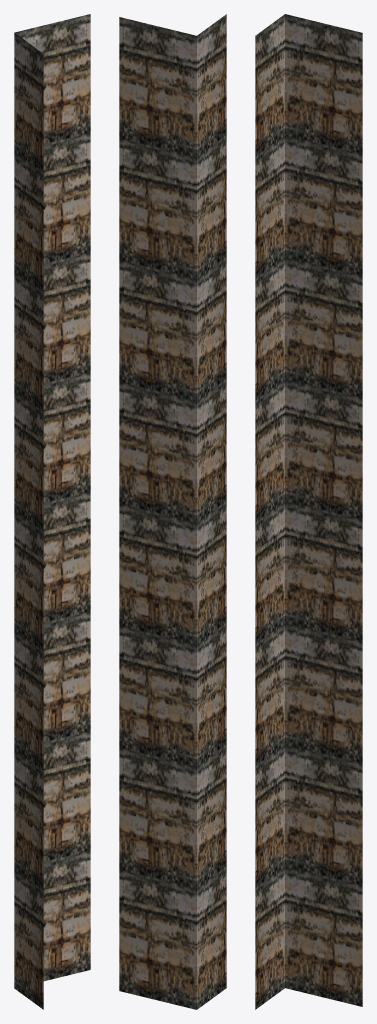
Rendered from M11_FakeCorner01.glb.
3 renders of one model, left to right at view 1: azimuth 30°, elevation 25°; view 2: azimuth 150°, elevation 25°; view 3: azimuth 330°, elevation 25°, orthographic.
Visible parts, largest first — view 1: M11_FAKECORNER01; view 2: M11_FAKECORNER01; view 3: M11_FAKECORNER01.
Boxes of the visible parts, box(x1,y1,x2,y2) form: M11_FAKECORNER01: box(14, 14, 90, 1009); M11_FAKECORNER01: box(119, 14, 226, 1009); M11_FAKECORNER01: box(255, 14, 362, 1009).
Size of the model in its own units: 0.75 by 9 by 0.5.
Materials: 1 (1 with a texture image).
